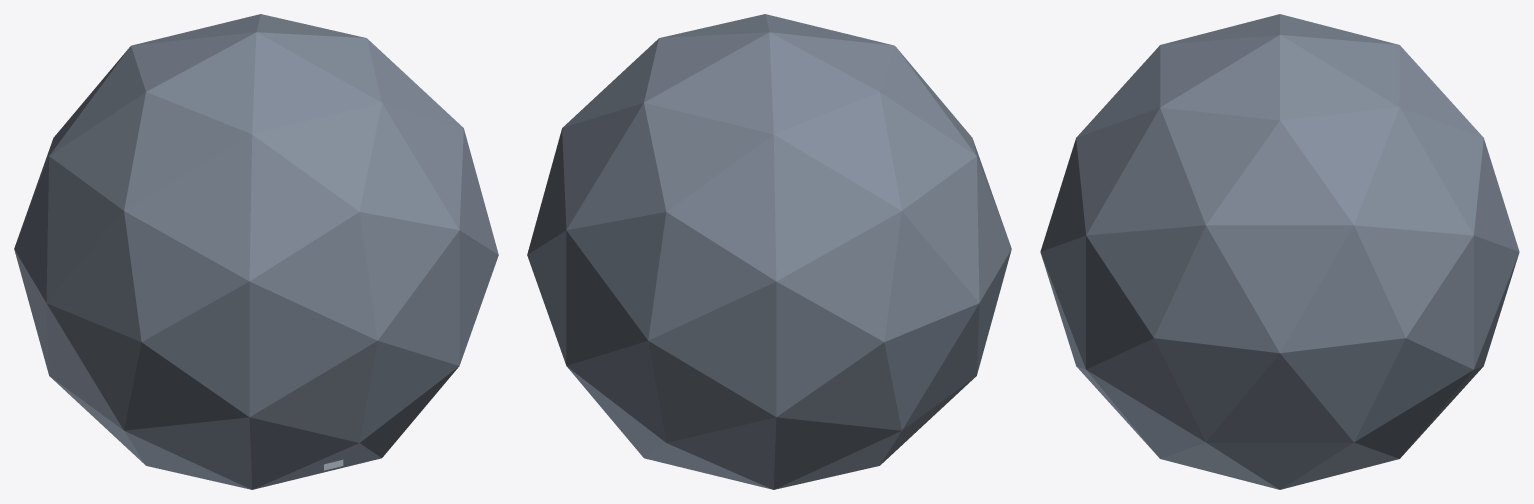
The model's file is mouse.glb.
3 views of the same model, side by side, from view 1: azimuth 30°, elevation 25°; view 2: azimuth 150°, elevation 25°; view 3: azimuth 270°, elevation 25° (orthographic).
Parts seen in each view (by area): view 1: mouse_0; view 2: mouse_0; view 3: mouse_0.
Part boxes in pixels (x1=…): mouse_0: x1=14, y1=14, x2=498, y2=489; mouse_0: x1=527, y1=14, x2=1011, y2=489; mouse_0: x1=1040, y1=14, x2=1519, y2=489.
Bounding box in the file's own units: 0.22 × 0.22 × 0.22.
